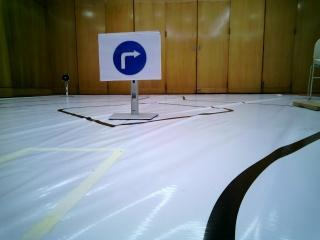right: (95, 35, 162, 82)
